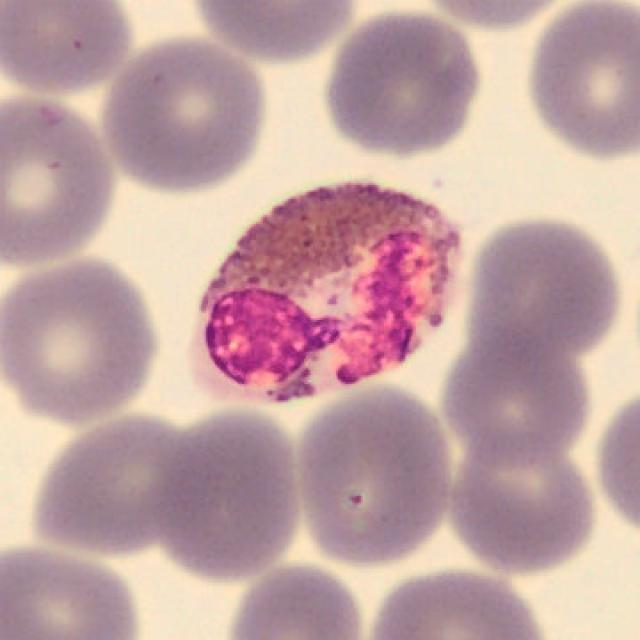Eosinofilo: (190, 183, 462, 405)
